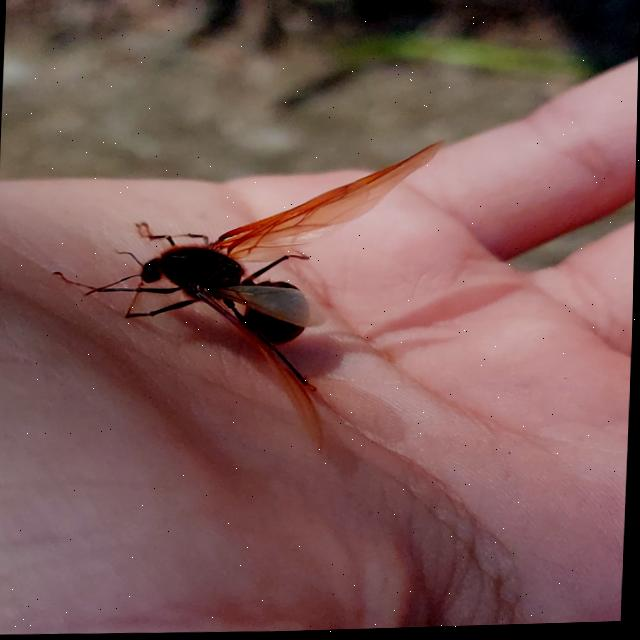Dead-Male-Alate: (46, 136, 445, 402)
